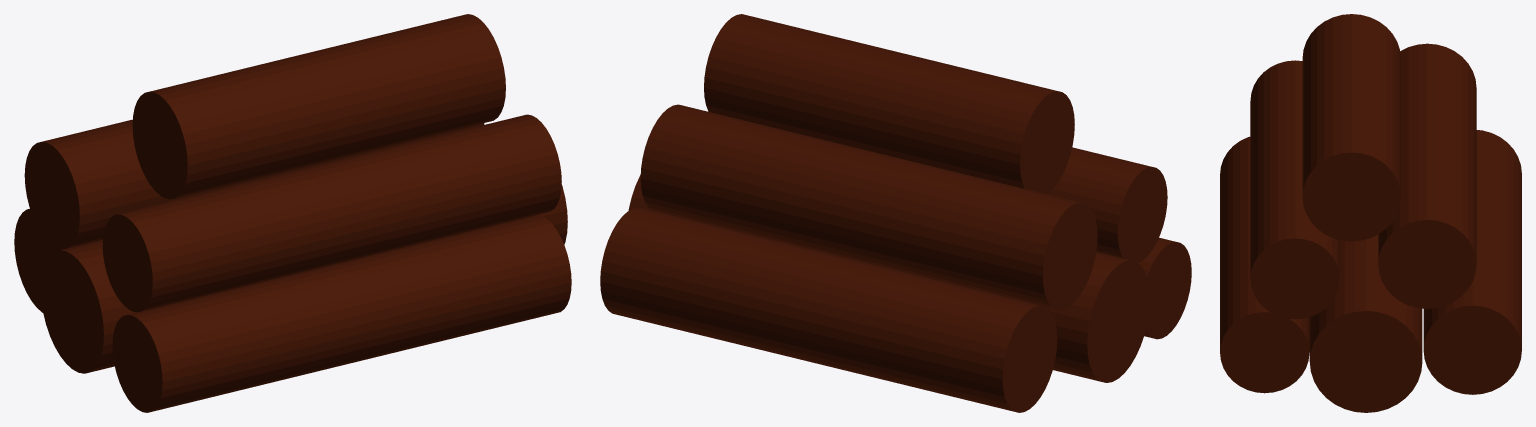
File: woodpile.obj
3 views of the same model, side by side, from view 1: azimuth 30°, elevation 25°; view 2: azimuth 150°, elevation 25°; view 3: azimuth 270°, elevation 25° (orthographic). The views are drawn at different scales.
Visible parts, largest first — view 1: Woodpile_Cylinder.003; view 2: Woodpile_Cylinder.003; view 3: Woodpile_Cylinder.003.
Part boxes in pixels (x1,y1,x2,y2): Woodpile_Cylinder.003: (14,14,571,412); Woodpile_Cylinder.003: (600,14,1191,412); Woodpile_Cylinder.003: (1220,14,1521,412).
Bounding box in the file's own units: 1.62 × 0.8725 × 1.03.
